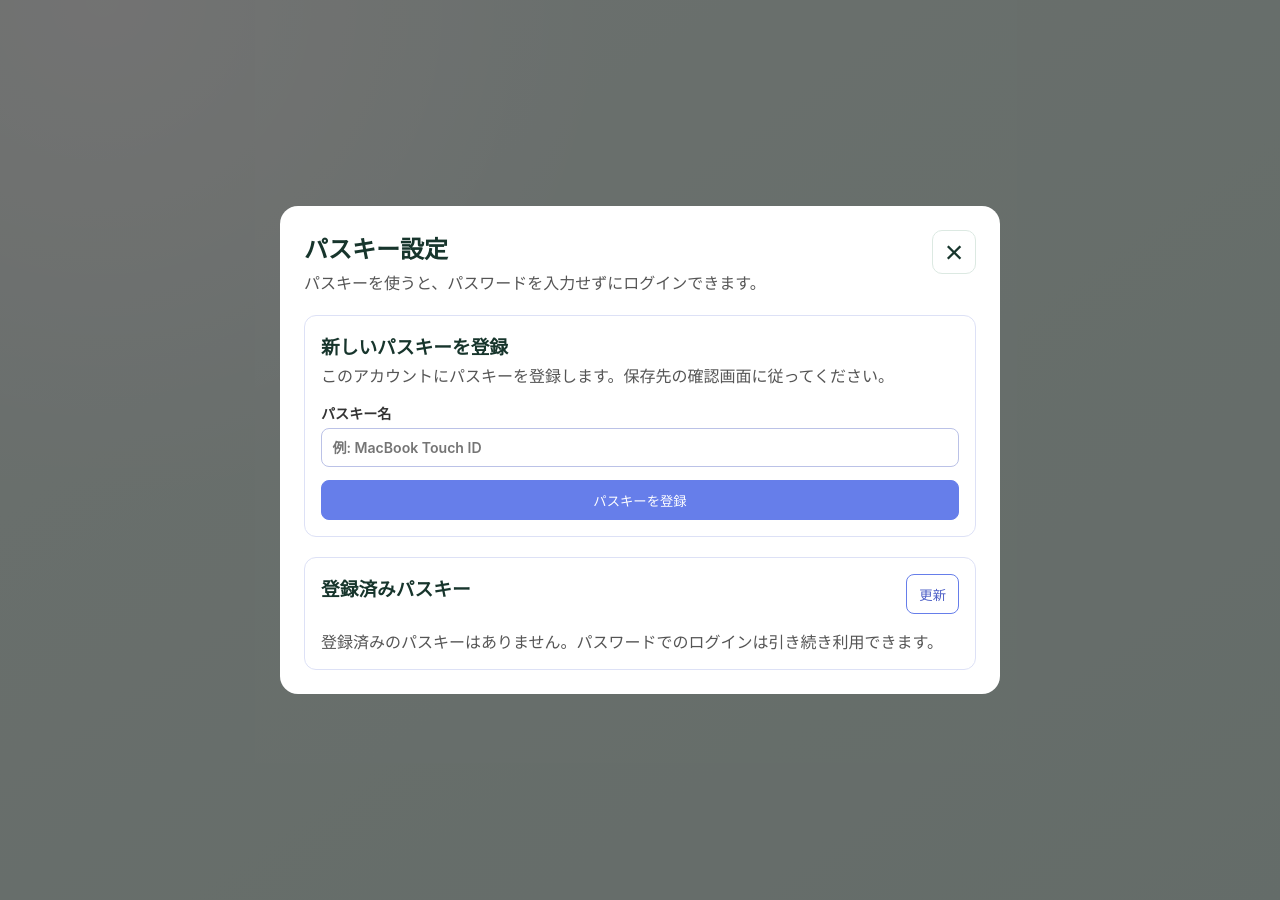
it: PasskeySettingsModal › does not report registration failure when the list refresh fails afterward
Type "MacBook" into the field labelled "パスキー名" at (640, 447), box [321, 428, 959, 467]
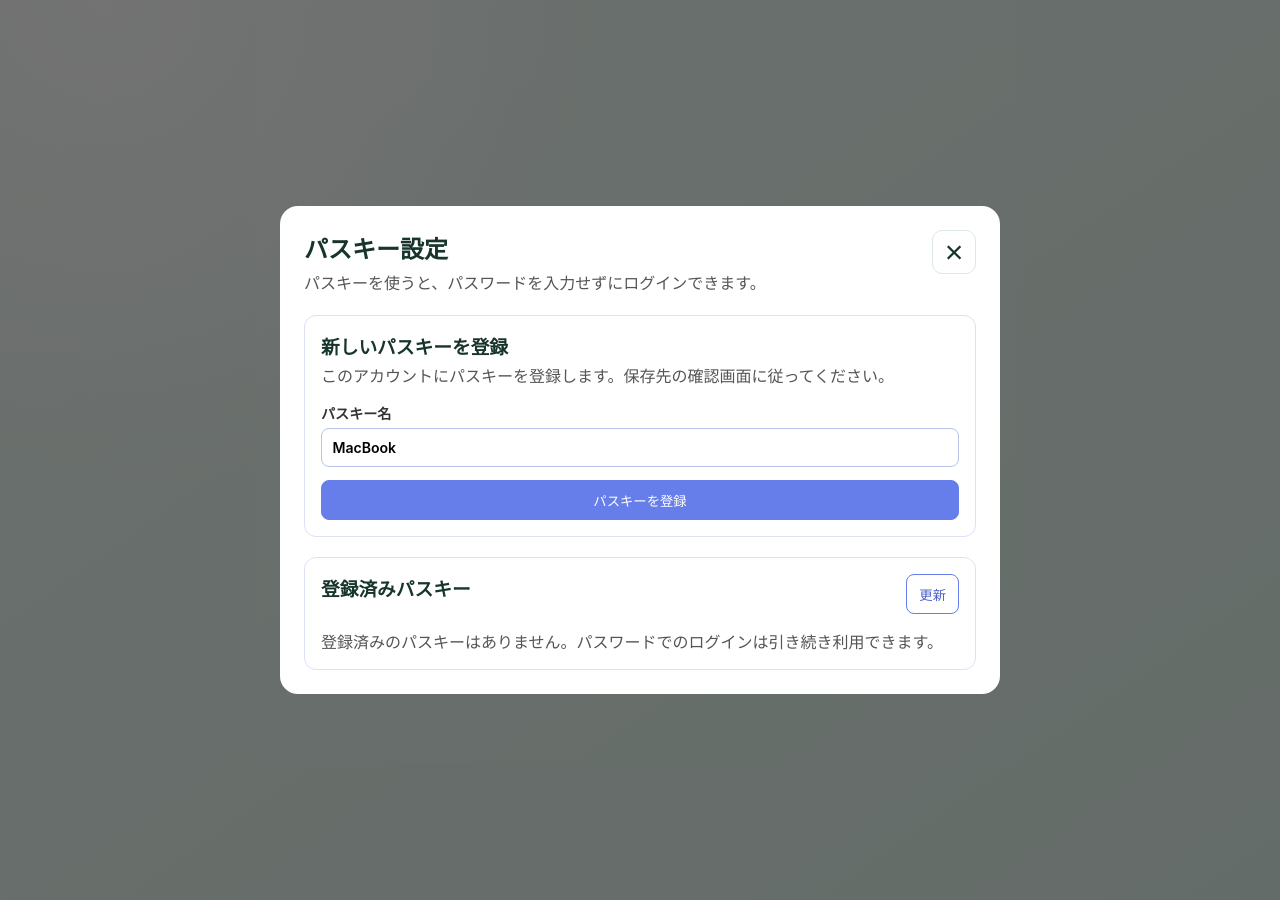
Submit the form with class "registration-form", box [321, 403, 959, 520]
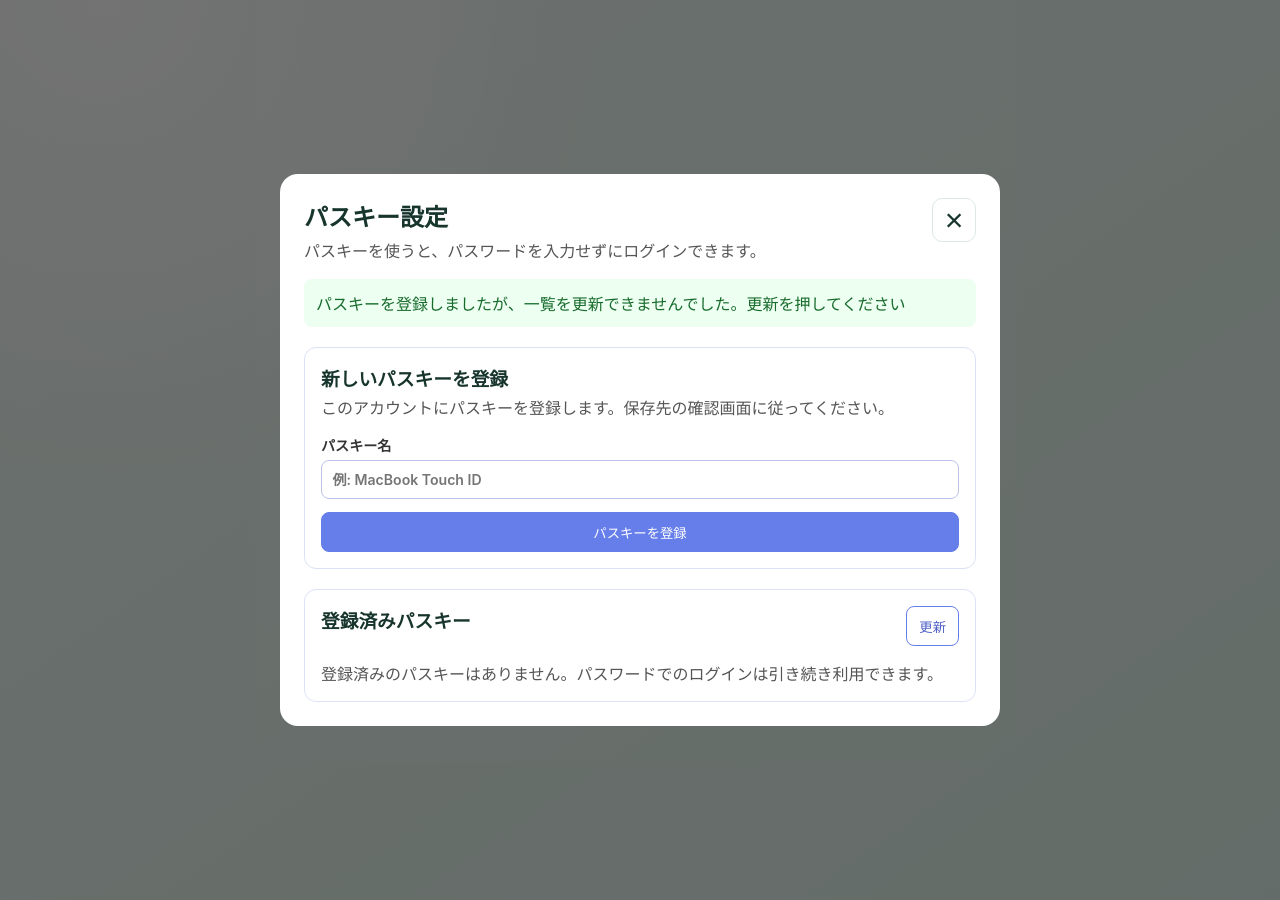
Now the message with class "info" shows "パスキーを登録しました", box [316, 294, 906, 314]
